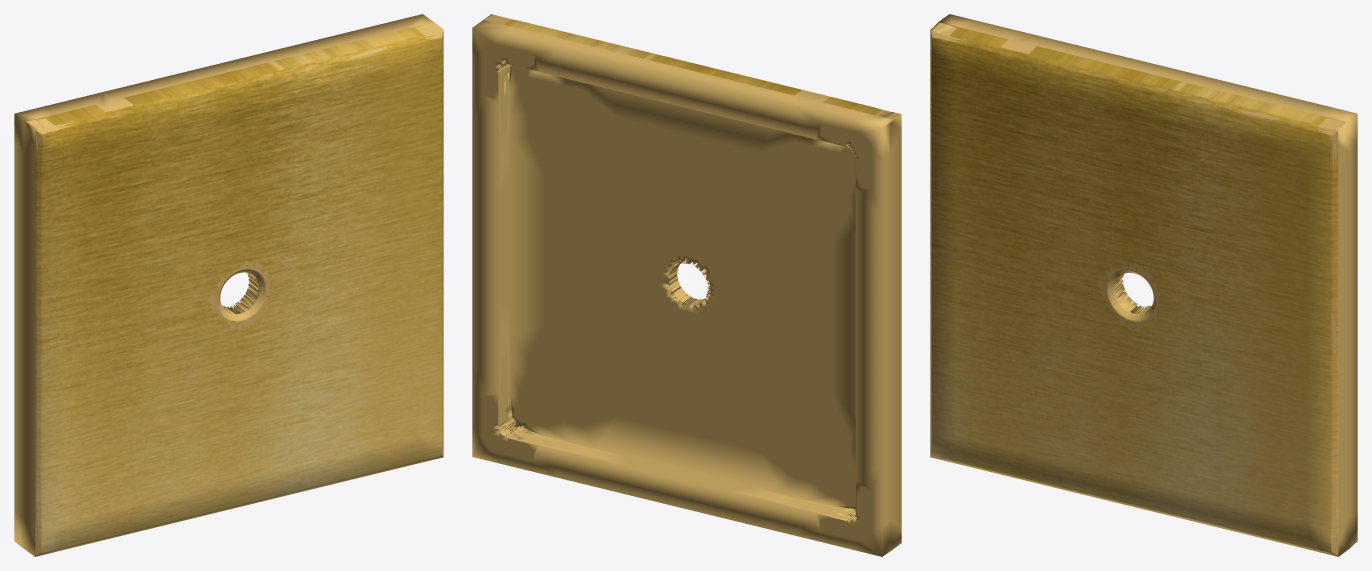
File: Acier.glb
3 renders of one model, left to right at view 1: azimuth 30°, elevation 25°; view 2: azimuth 150°, elevation 25°; view 3: azimuth 330°, elevation 25°, orthographic.
Visible parts, largest first — view 1: PLS-T1; view 2: PLS-T1; view 3: PLS-T1.
Part boxes in pixels (bbox=[...]): PLS-T1: bbox=[14, 14, 443, 556]; PLS-T1: bbox=[472, 14, 901, 556]; PLS-T1: bbox=[930, 14, 1357, 556].
Bounding box in the file's own units: 85.17 × 85.22 × 8.26.
Materials: 1 (1 with a texture image).
